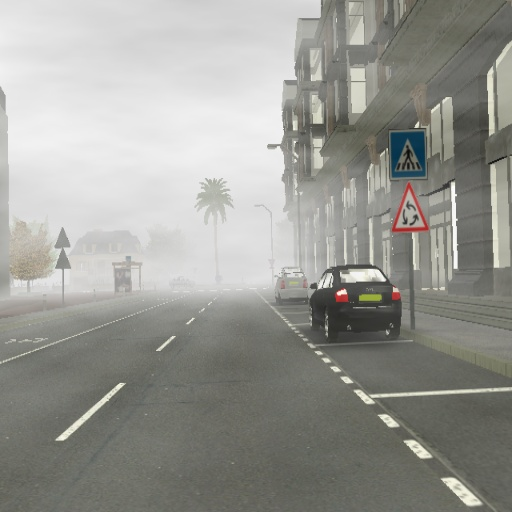Crossroad: (390, 177, 427, 233)
Pedestrian crossing: (381, 119, 429, 177)
